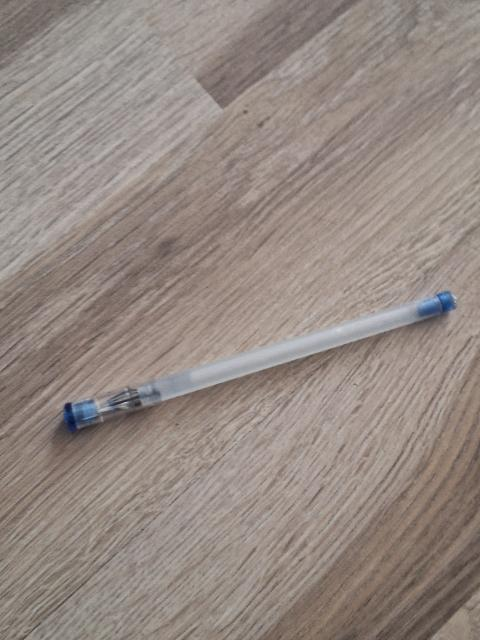writing_tool: (58, 288, 460, 441)
